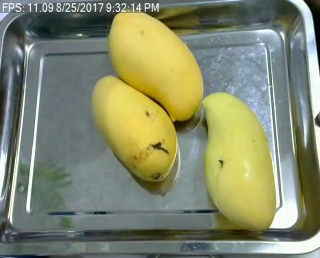Mango: (107, 7, 205, 120), (203, 90, 276, 231), (92, 74, 177, 182)
